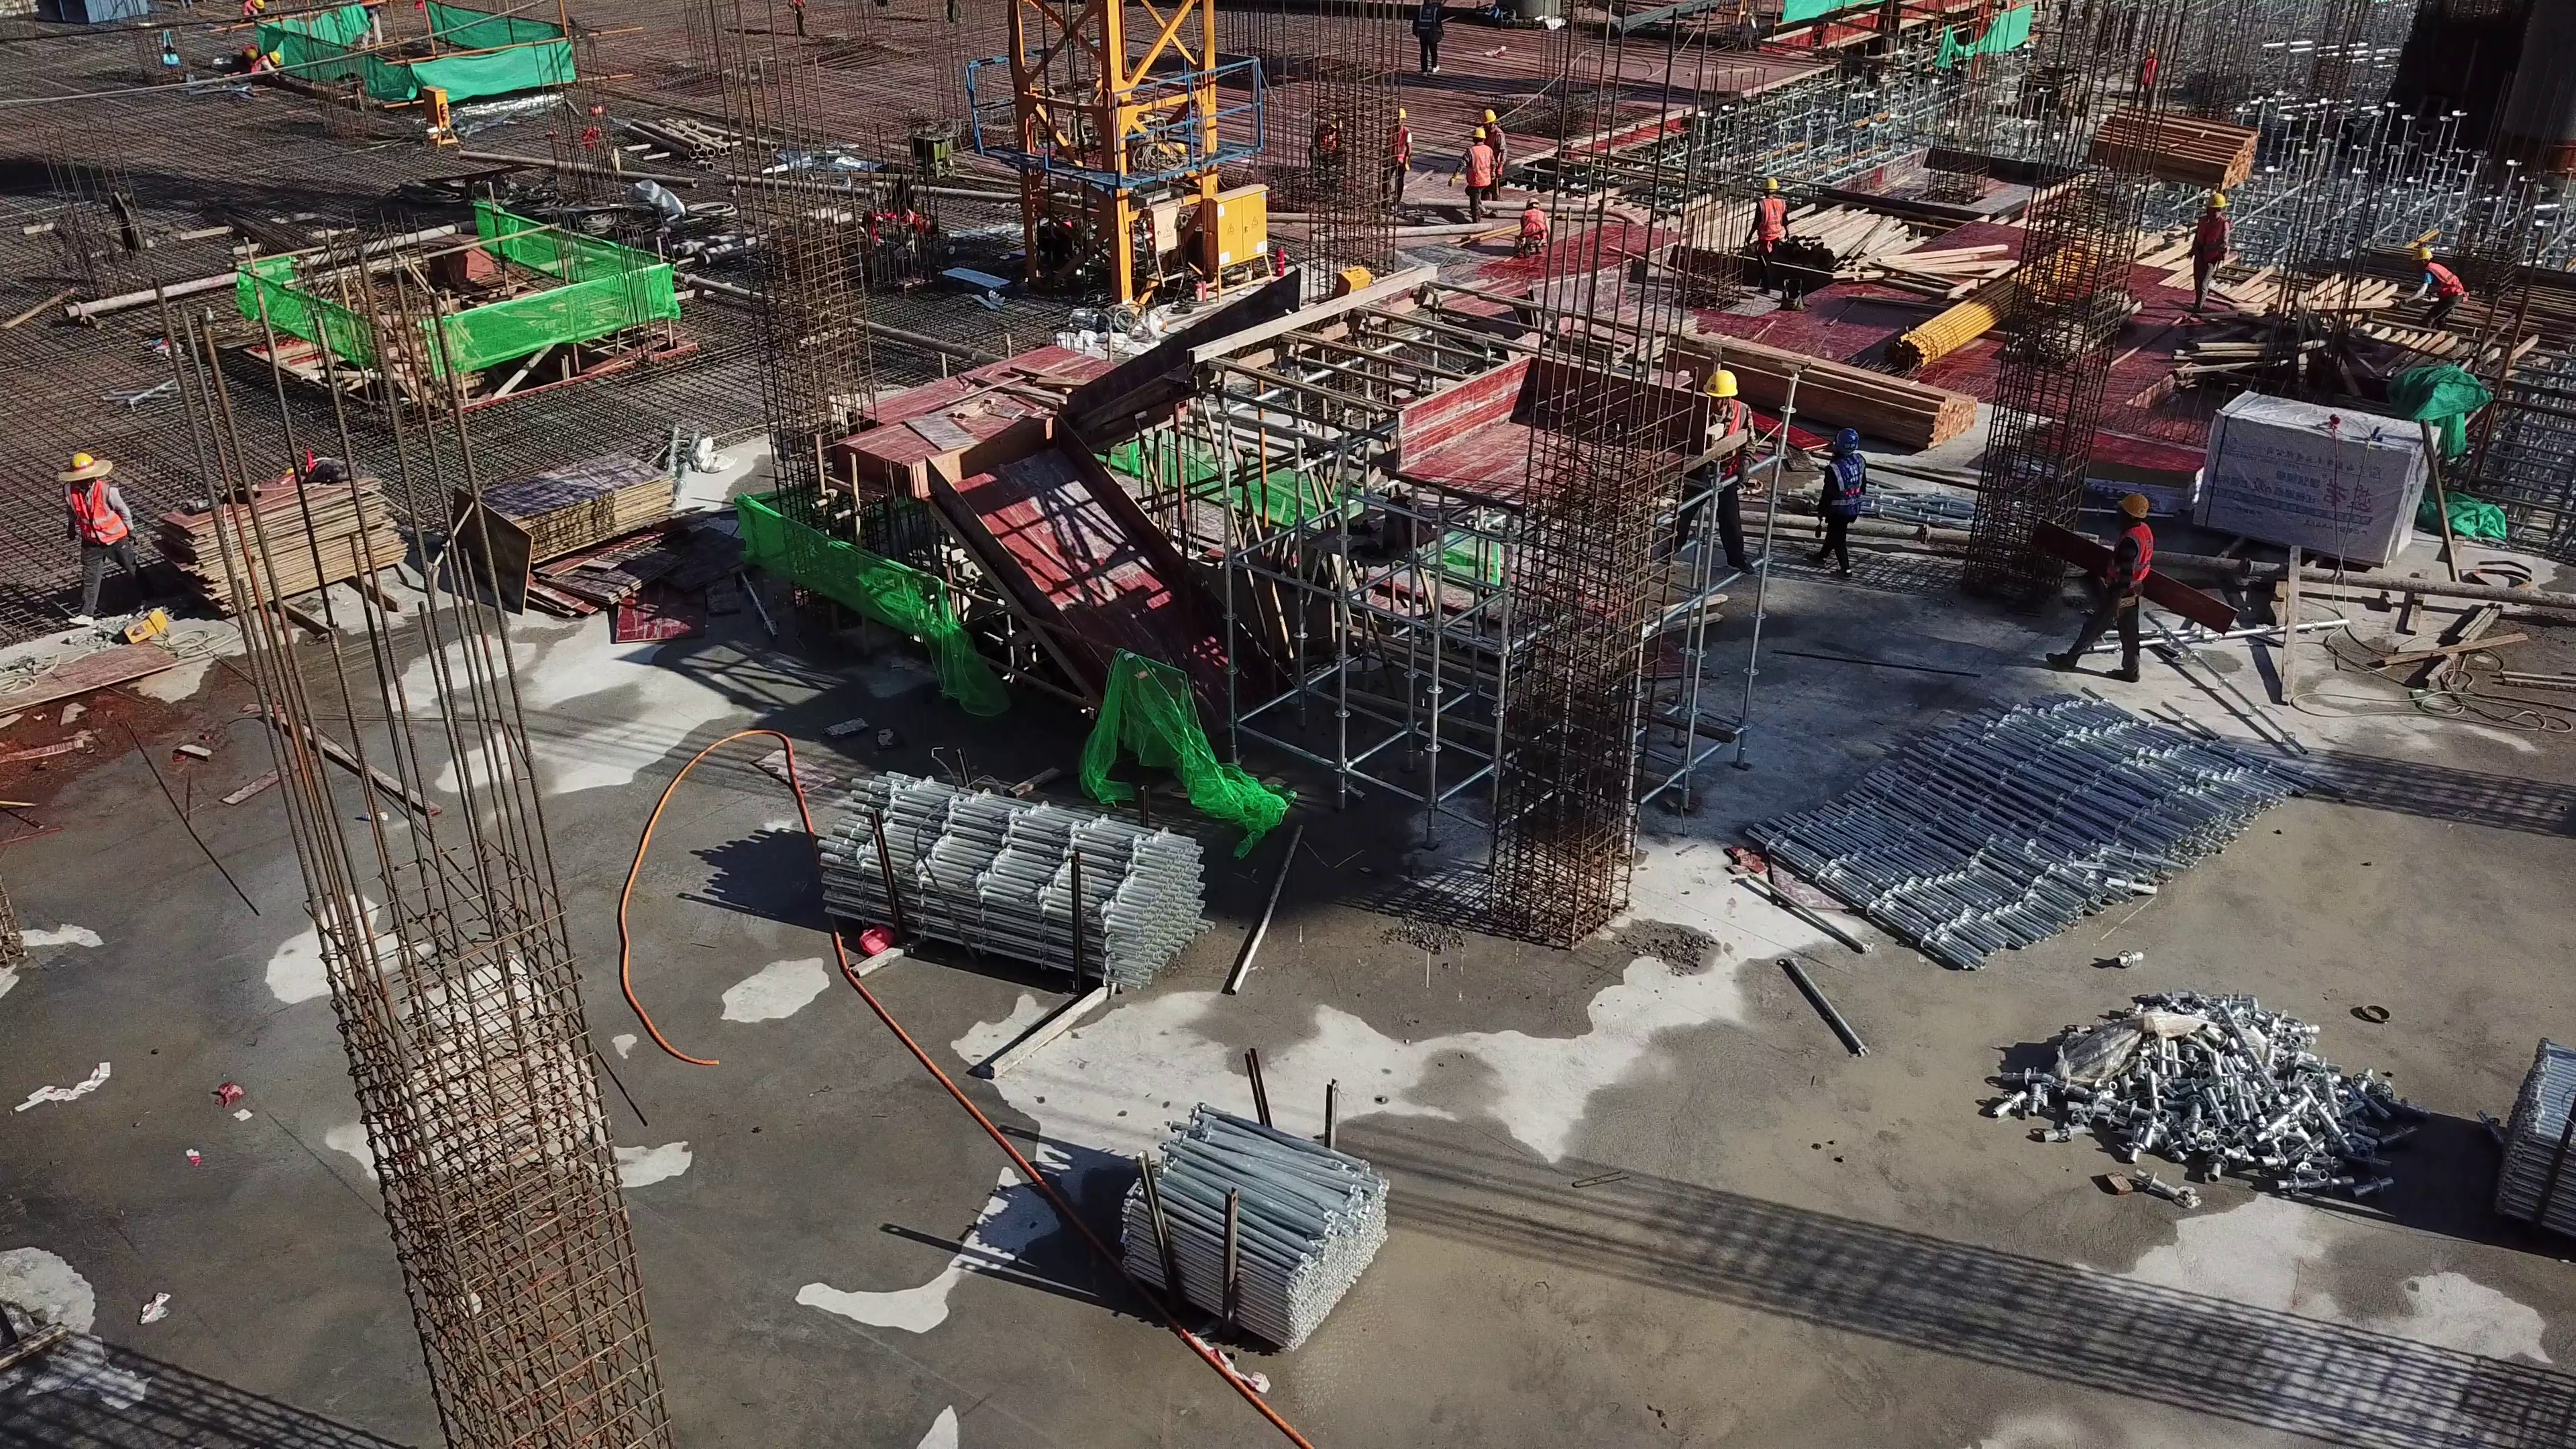board: (479, 446, 710, 604), (152, 463, 407, 598), (1544, 267, 1677, 377), (2019, 425, 2201, 486)
cutter: (1615, 360, 1682, 384)
ebox: (1200, 184, 1265, 286), (1150, 200, 1181, 279), (420, 86, 454, 146)
helmet: (1703, 368, 1741, 396), (2117, 493, 2150, 520), (1837, 425, 1861, 453), (2204, 193, 2228, 211), (2413, 247, 2435, 260), (267, 49, 280, 67), (1763, 178, 1777, 191), (1483, 108, 1495, 122), (1470, 129, 1487, 140), (1529, 195, 1540, 207)
hopper: (32, 3, 154, 23)
person: (2047, 491, 2154, 684), (1658, 371, 1757, 575), (58, 451, 148, 624), (1809, 429, 1865, 576), (2188, 193, 2233, 320), (2396, 245, 2465, 324), (1744, 176, 1788, 289), (1448, 127, 1493, 223), (1410, 1, 1446, 78), (1383, 107, 1410, 211), (1482, 105, 1509, 207), (1519, 195, 1550, 253), (1315, 113, 1342, 163), (250, 51, 282, 80), (2143, 45, 2155, 97), (238, 1, 262, 19), (244, 42, 257, 56)
rebar: (1613, 4, 1703, 38)
scaffold: (1762, 691, 2268, 967), (816, 779, 1195, 981), (1133, 1103, 1384, 1332), (2504, 1039, 2576, 1222)
vest: (65, 482, 127, 537), (2108, 525, 2151, 586), (1831, 454, 1862, 513), (1721, 397, 1744, 467), (2422, 262, 2467, 298), (1759, 202, 1788, 245), (1468, 148, 1493, 191), (2198, 213, 2220, 260), (1419, 3, 1437, 38), (1525, 209, 1546, 237), (1392, 129, 1404, 160), (2144, 59, 2156, 82), (252, 56, 266, 71), (244, 1, 253, 15)
wood: (1665, 325, 1980, 448), (2094, 107, 2253, 188)
